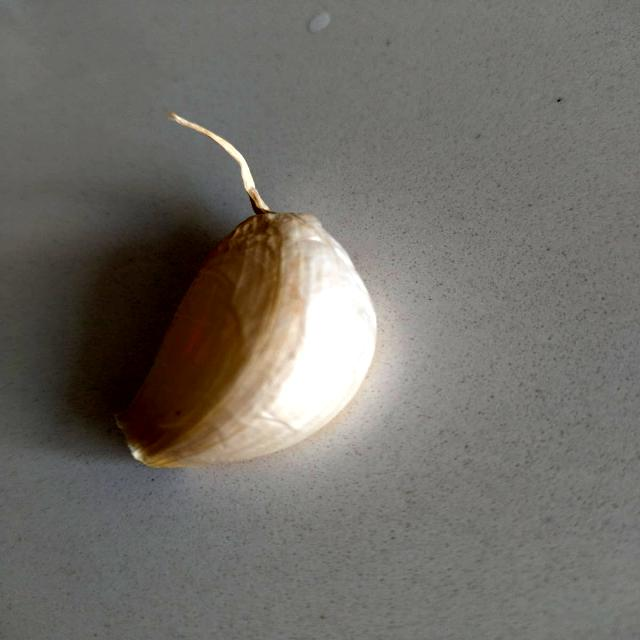garlic: (96, 182, 396, 467)
